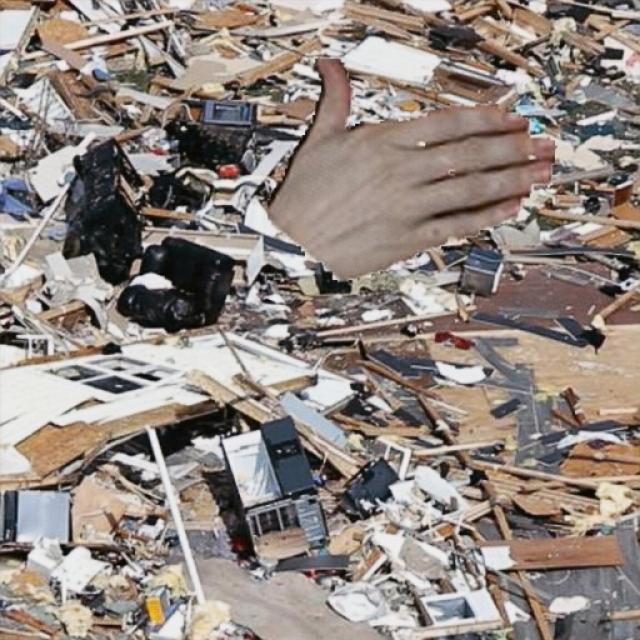Person in Rubble: (267, 58, 554, 282)
